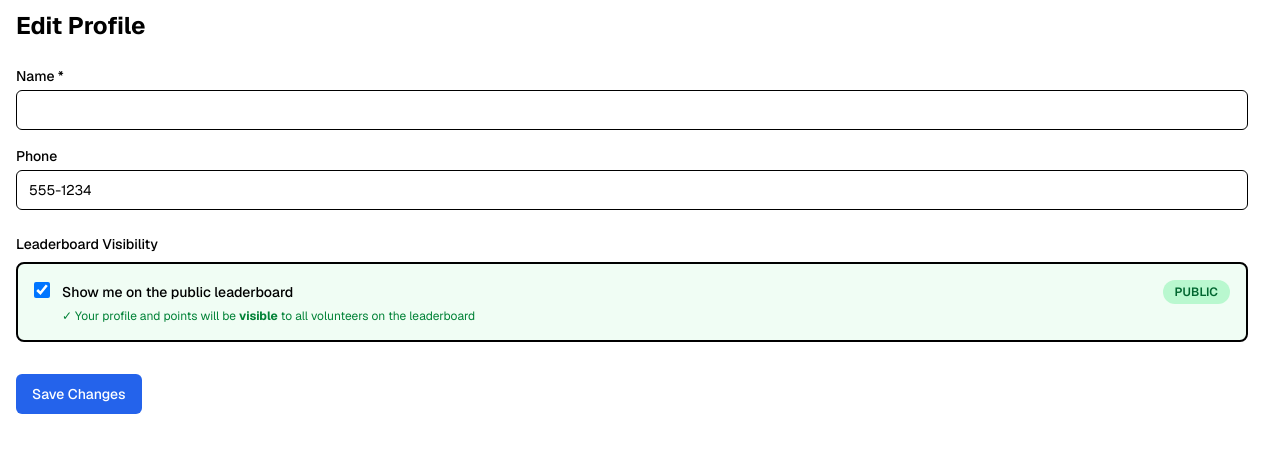
Test: ProfileEditForm › Validation › should show error when name is empty
Click the button "Save Changes" at (79, 394), box [16,374,142,414]
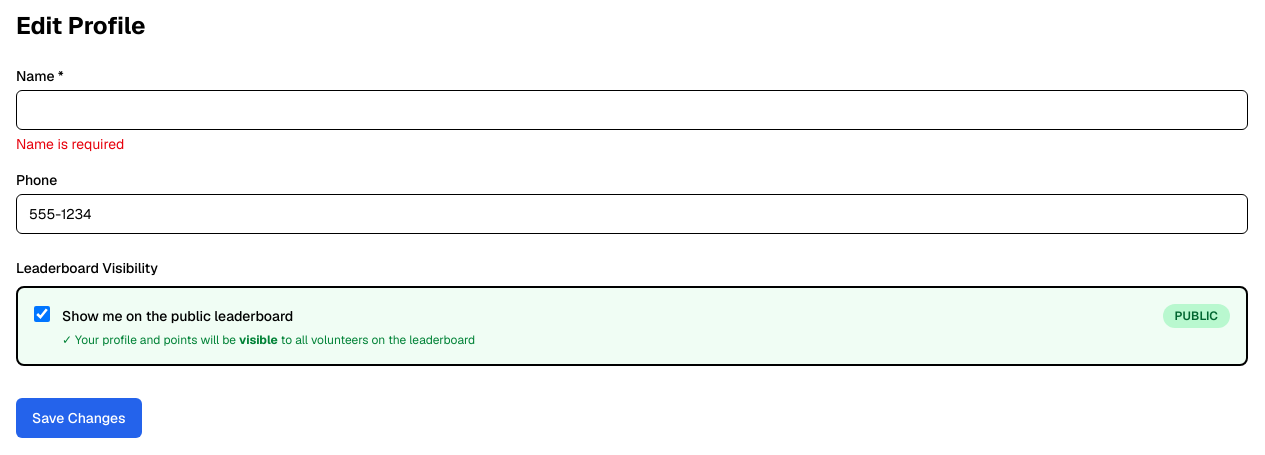
Expected: the text "Name is required" is shown, [16,135,124,153]
